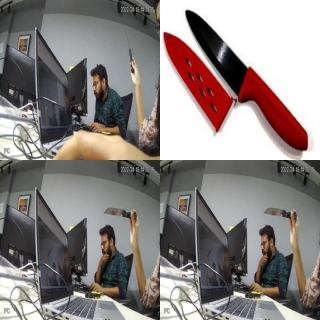knife: (183, 6, 263, 100), (101, 204, 129, 218), (262, 207, 288, 221), (125, 22, 133, 58)
